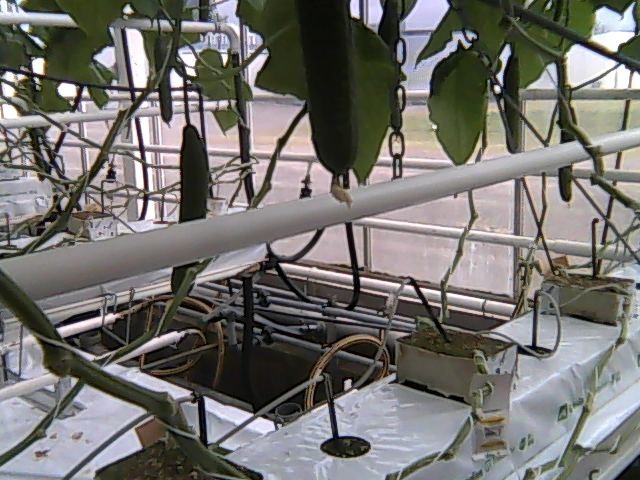concombre: (302, 1, 361, 206)
